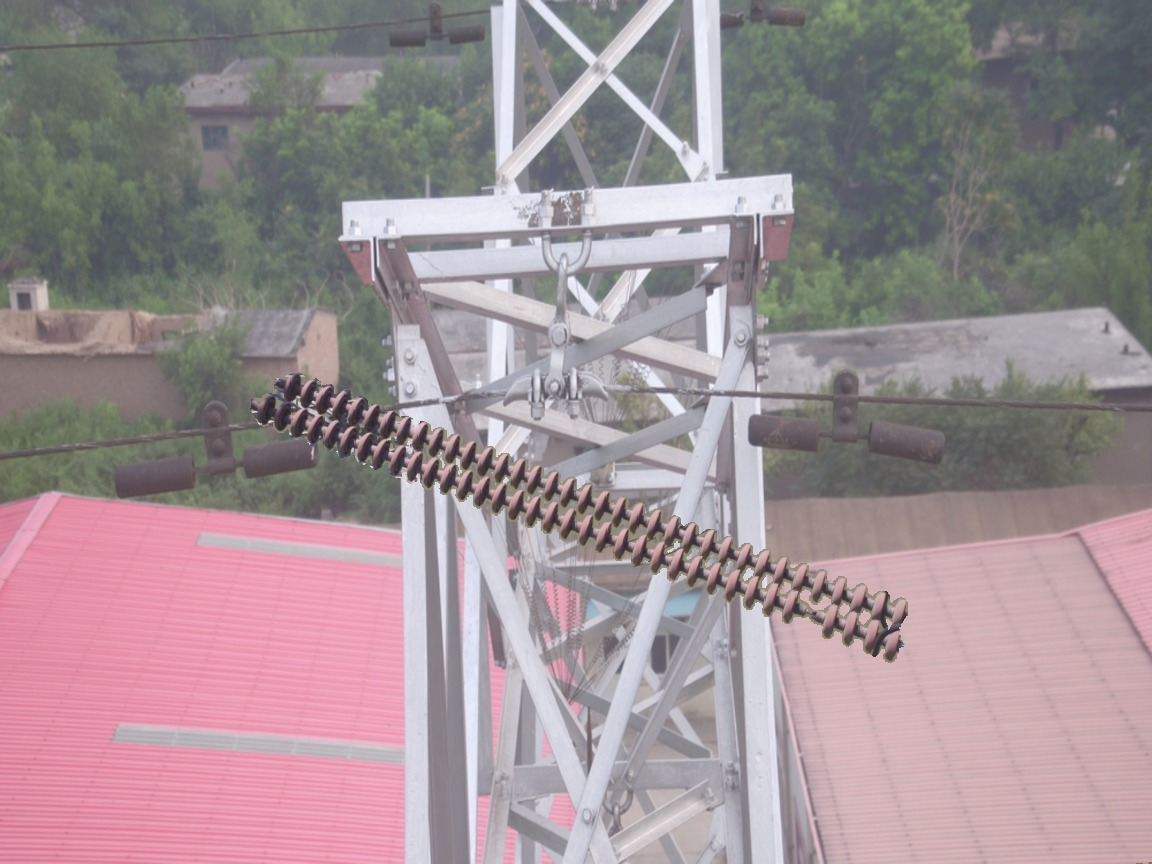defect: (780, 583, 840, 643)
